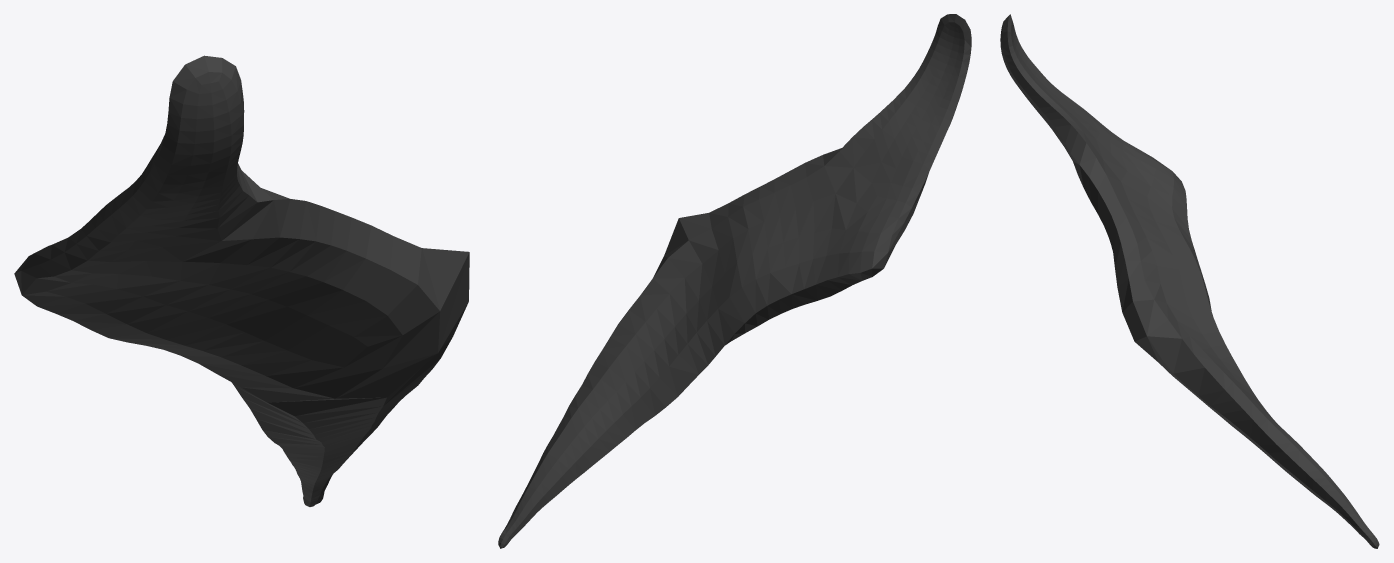
Rendered from Pectoralis_superficialis.glb.
The picture shows the model from 3 angles, left to right: view 1: azimuth 30°, elevation 25°; view 2: azimuth 150°, elevation 25°; view 3: azimuth 270°, elevation 25°; orthographic projection. The views are drawn at different scales.
Visible parts, largest first — view 1: Pectoralis_superficialis; view 2: Pectoralis_superficialis; view 3: Pectoralis_superficialis.
Part boxes in pixels (<box>): Pectoralis_superficialis: <box>14,55,469,506</box>; Pectoralis_superficialis: <box>498,14,971,548</box>; Pectoralis_superficialis: <box>1000,14,1379,548</box>.
Size of the model in its own units: 0.4325 by 0.6729 by 0.5537.
1 material, 1 textured.
